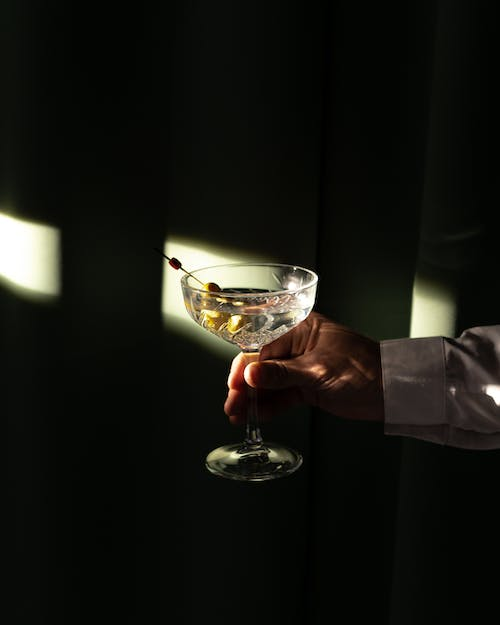alcohol: (177, 262, 321, 482)
